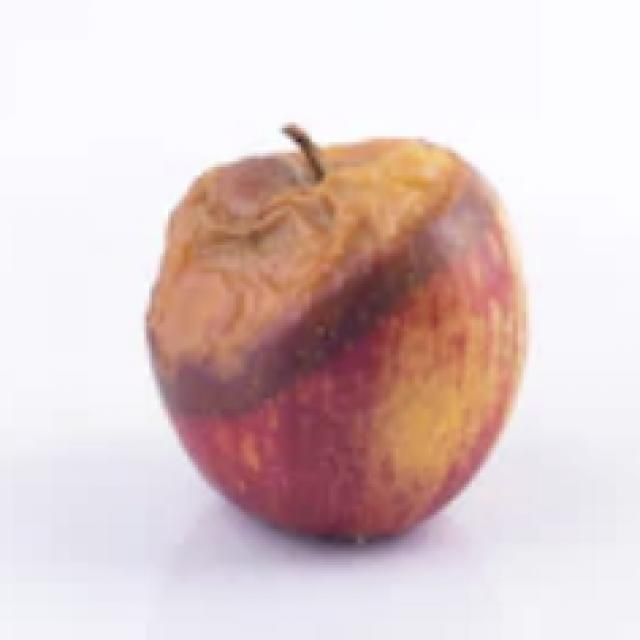rotten_apple: (145, 126, 528, 537)
